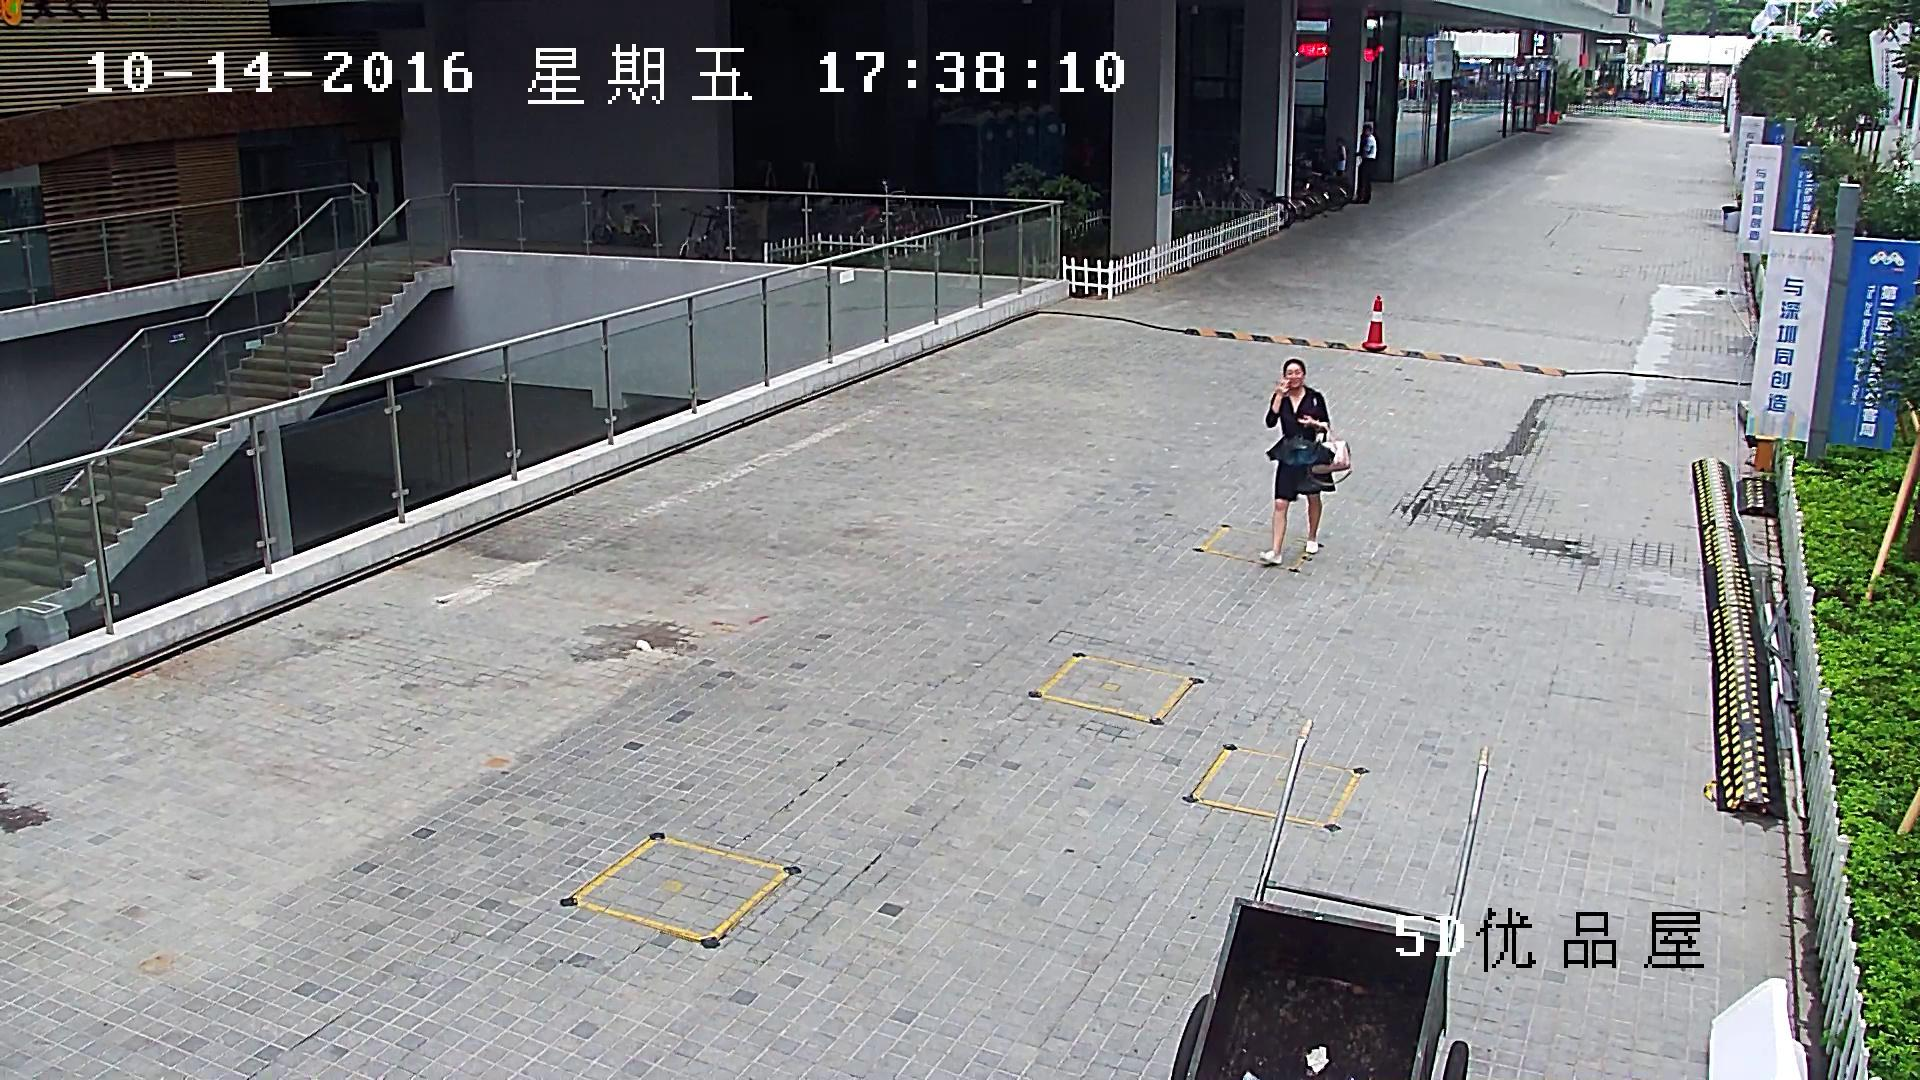person: (1258, 357, 1353, 565), (1351, 123, 1377, 205), (1333, 137, 1348, 177)
